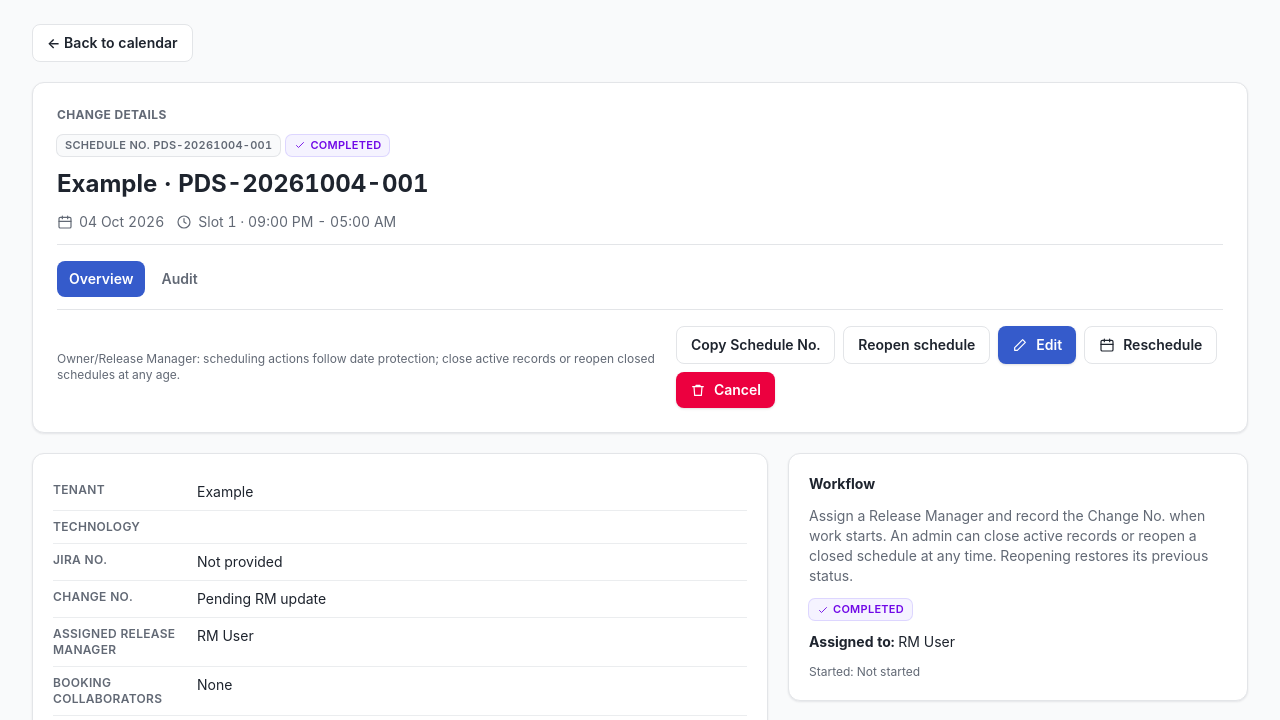
Test case: reopen a closed schedule › reports a failed reopen without refreshing or changing the displayed status
Click the button "Reopen schedule".
click(917, 344)  # box x1=843 y1=326 x2=990 y2=364
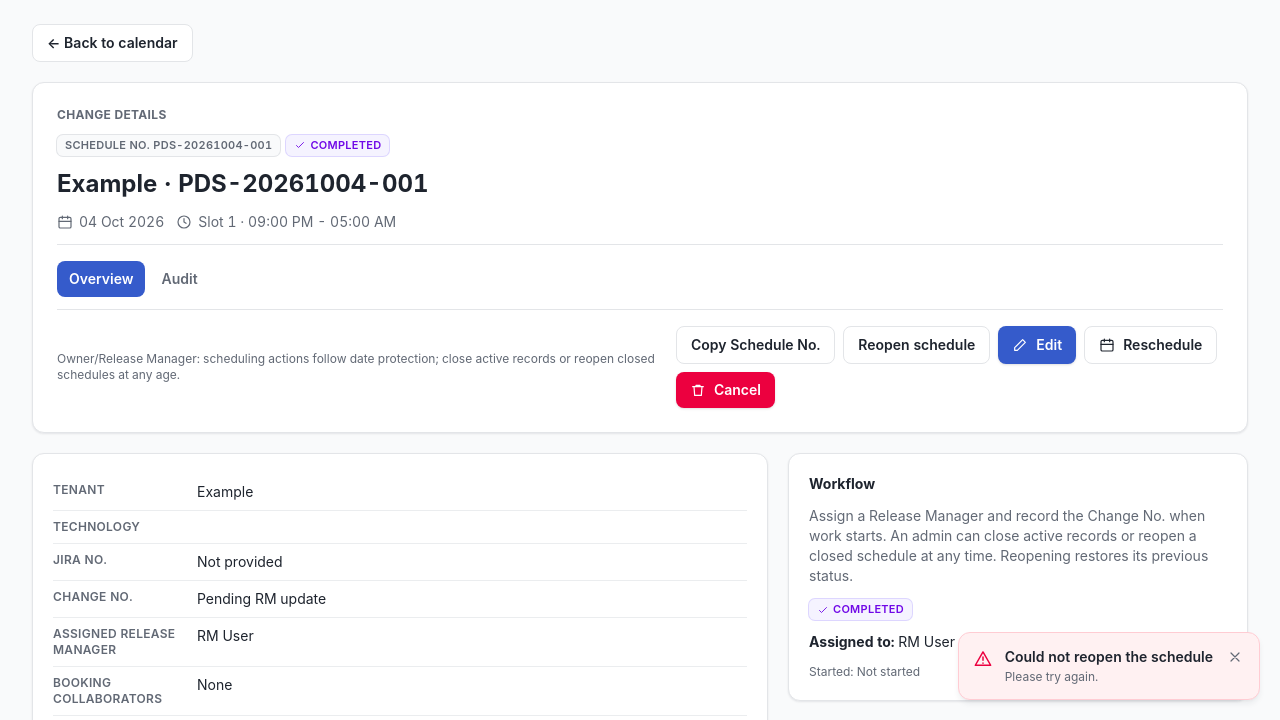
Expected: the text "COMPLETED" below "Change details" is shown, x1=310 y1=138 x2=381 y2=152
Result: the text "Could not reopen the schedule" is shown at x1=1005 y1=647 x2=1213 y2=667
